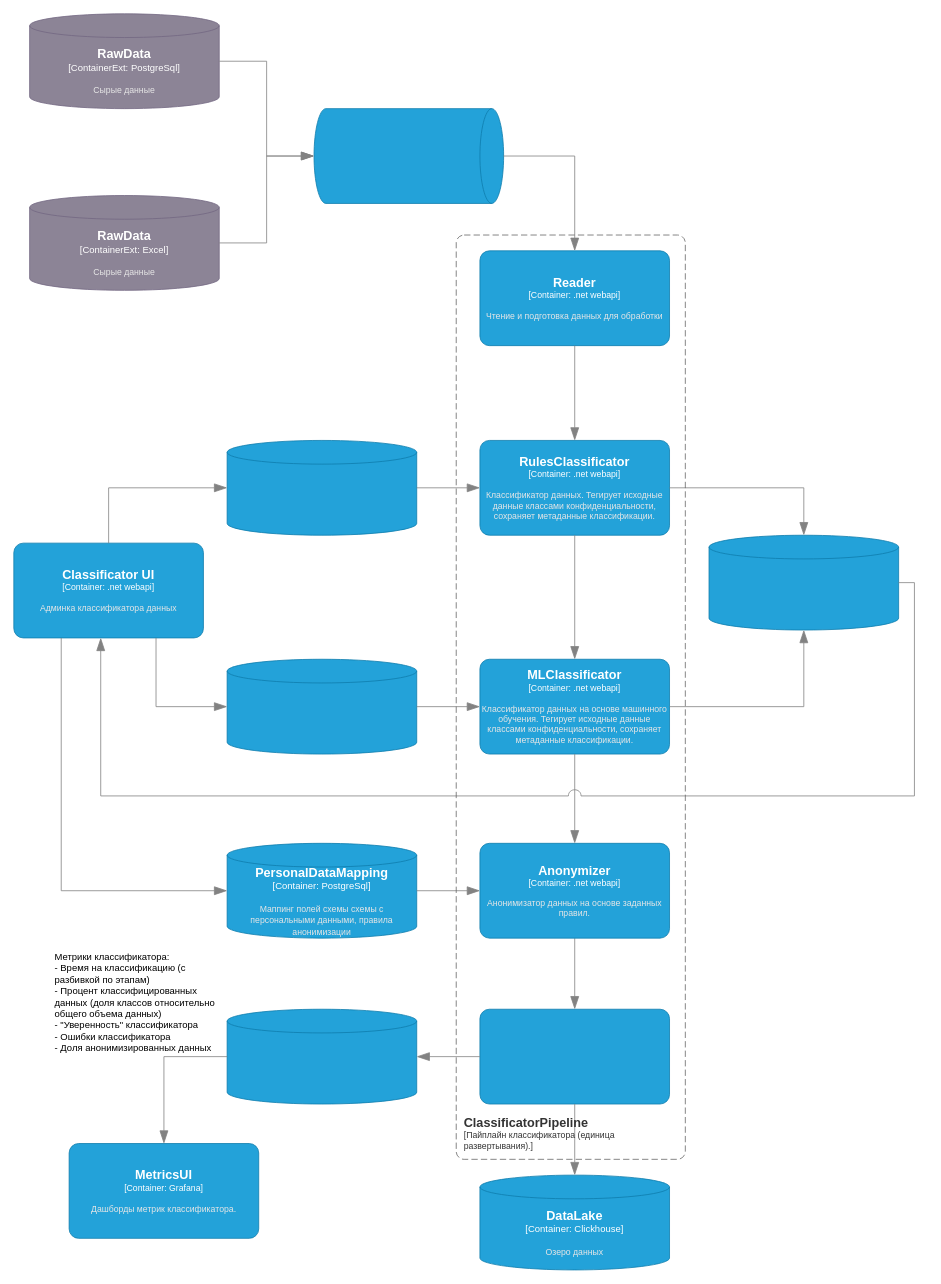
Image size: 941x1284. Some labels were removed from this diagram. Each missing label, with the centre of its shape:
ClassificationMetadata [Container: PostgreSql] Метаданные классификатора.: the point at 803,582
ClassificationMetrics [Container: Prometeus] Метрики классификатора.: the point at 321,1056
Data changes [Container: Apache Kafka] Изменения данных: the point at 408,155
MLModel [Container: PostgreSql] ML-модель классификатора: the point at 321,706
Rules [Container: PostgreSql] Правила классификатора: the point at 321,487
Writer [Container: .net webapi] Запись данных в аналитическое хранилище: the point at 574,1056
